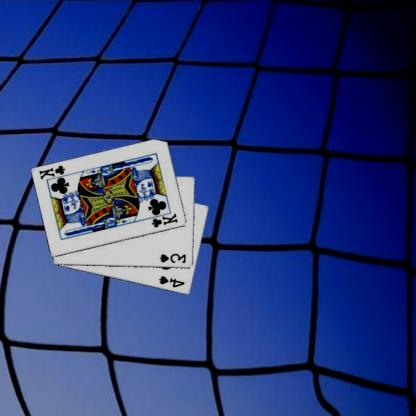3S: (159, 251, 189, 265)
4S: (158, 273, 188, 289)
KC: (147, 209, 181, 229), (39, 163, 73, 183)
